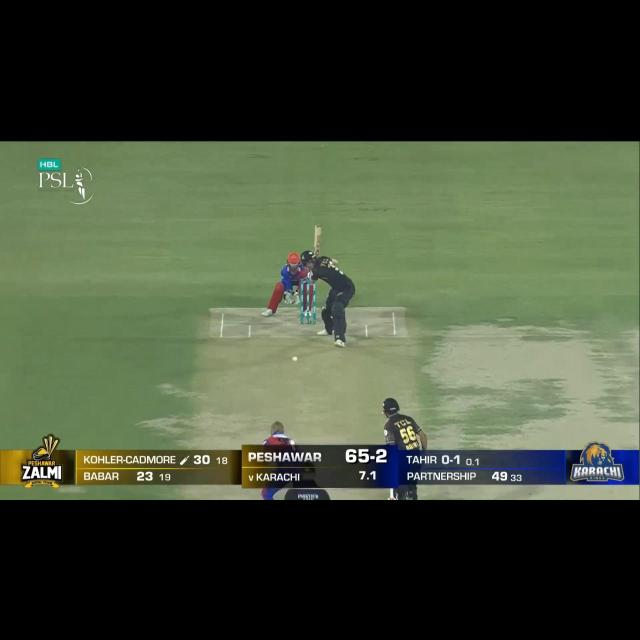bat: (313, 226, 322, 256)
toe: (312, 223, 322, 230)
